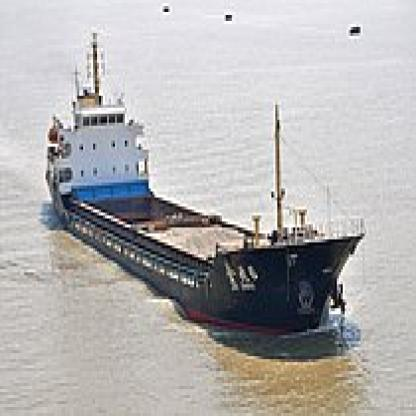Tanker: (46, 54, 356, 335)
